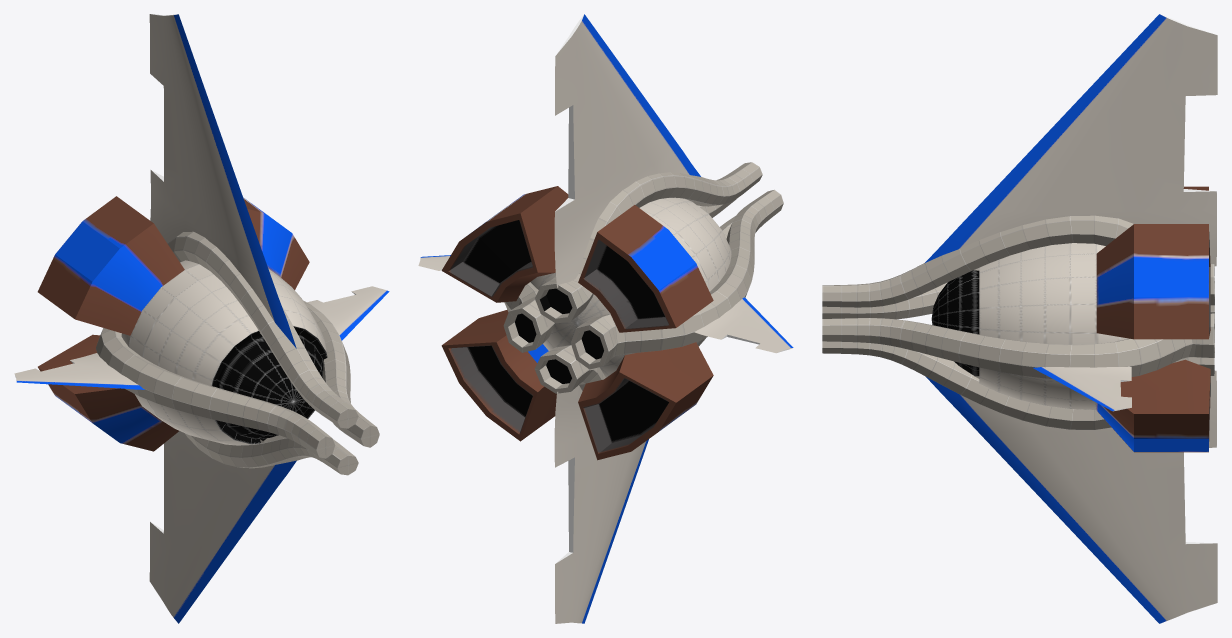
File: heavy_ship_blue.fbx
The picture shows the model from 3 angles, left to right: view 1: azimuth 30°, elevation 25°; view 2: azimuth 150°, elevation 25°; view 3: azimuth 270°, elevation 25°; orthographic projection.
Visible parts, largest first — view 1: heavy_ship; view 2: heavy_ship; view 3: heavy_ship.
Boxes of the visible parts, x1,y1,x2,y2 form: heavy_ship: [14, 14, 389, 623]; heavy_ship: [418, 14, 793, 623]; heavy_ship: [822, 14, 1217, 623].
Bounding box in the file's own units: 11.88 × 18.56 × 10.91.
Materials: 2 (1 with a texture image).
